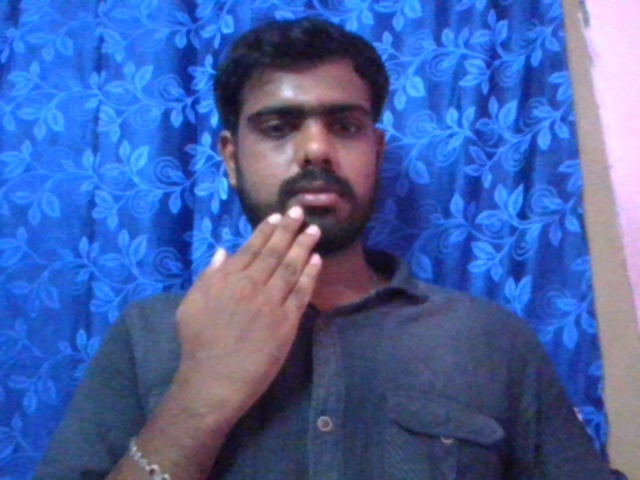Thanks: (181, 204, 328, 374)
